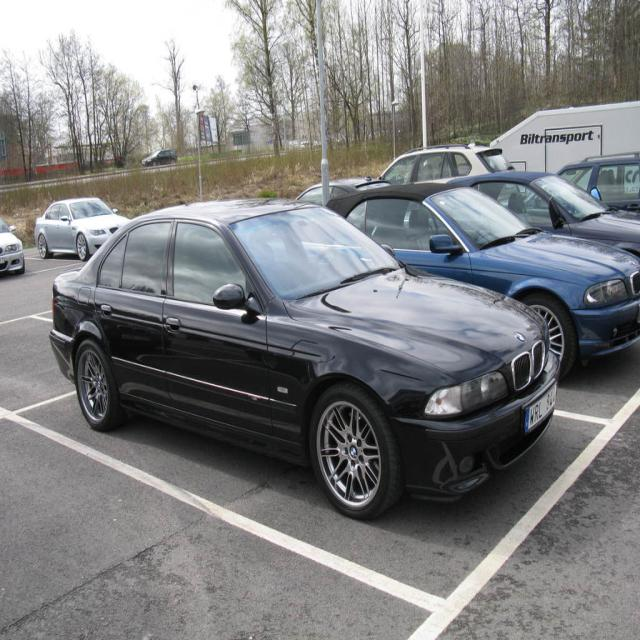car: (47, 195, 557, 524)
